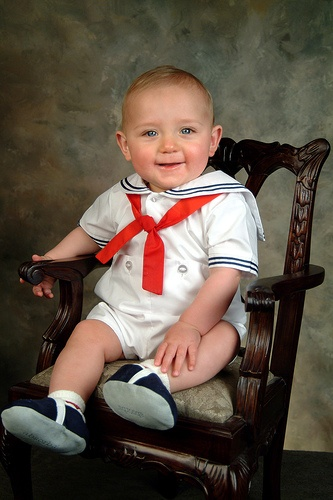head: (114, 67, 223, 189)
person: (16, 58, 252, 497)
